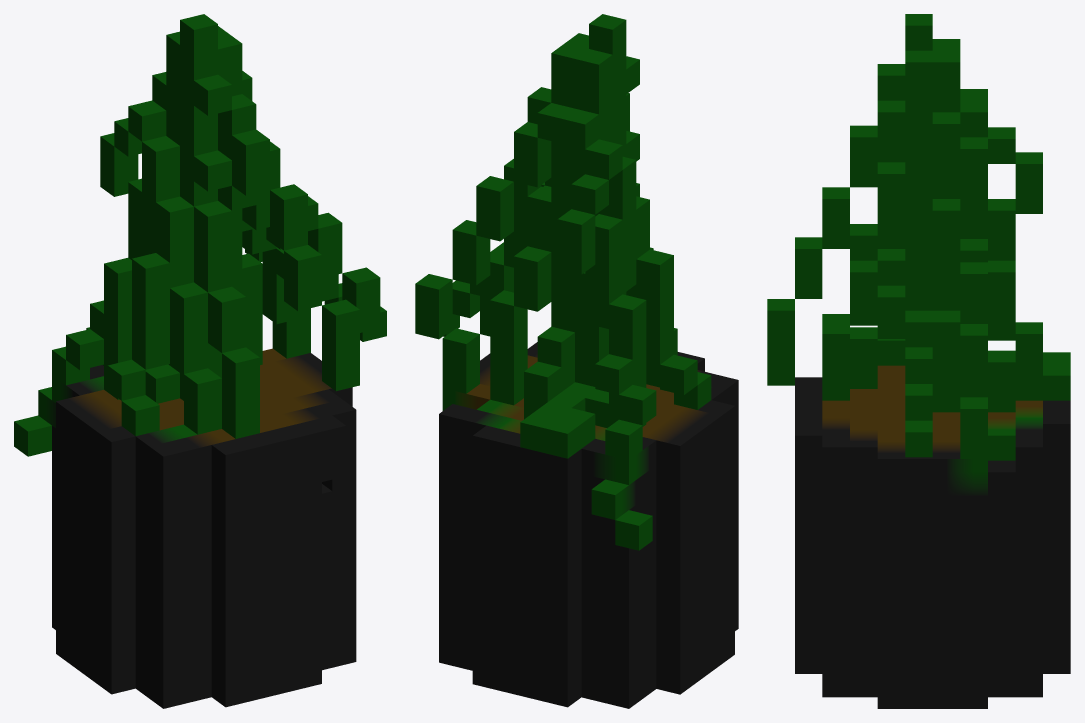
File: PotPlant.fbx
The picture shows the model from 3 angles, left to right: view 1: azimuth 30°, elevation 25°; view 2: azimuth 150°, elevation 25°; view 3: azimuth 270°, elevation 25°; orthographic projection.
Parts seen in each view (by area): view 1: Matrix; view 2: Matrix; view 3: Matrix.
Boxes of the visible parts, x1,y1,x2,y2 form: Matrix: (14, 14, 386, 708); Matrix: (415, 14, 738, 708); Matrix: (767, 14, 1070, 708).
Size of the model in its own units: 12 by 25 by 11.
Materials: 1 (1 with a texture image).
